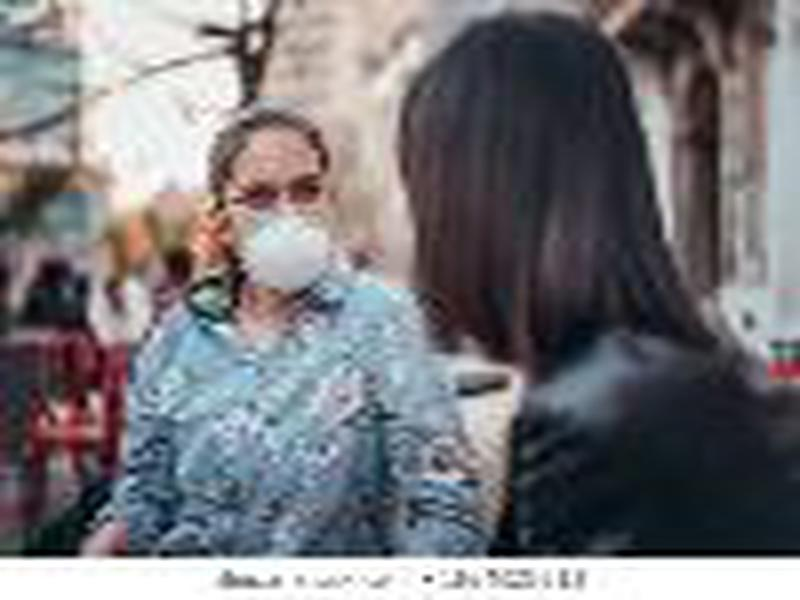with_mask: (203, 115, 334, 298)
